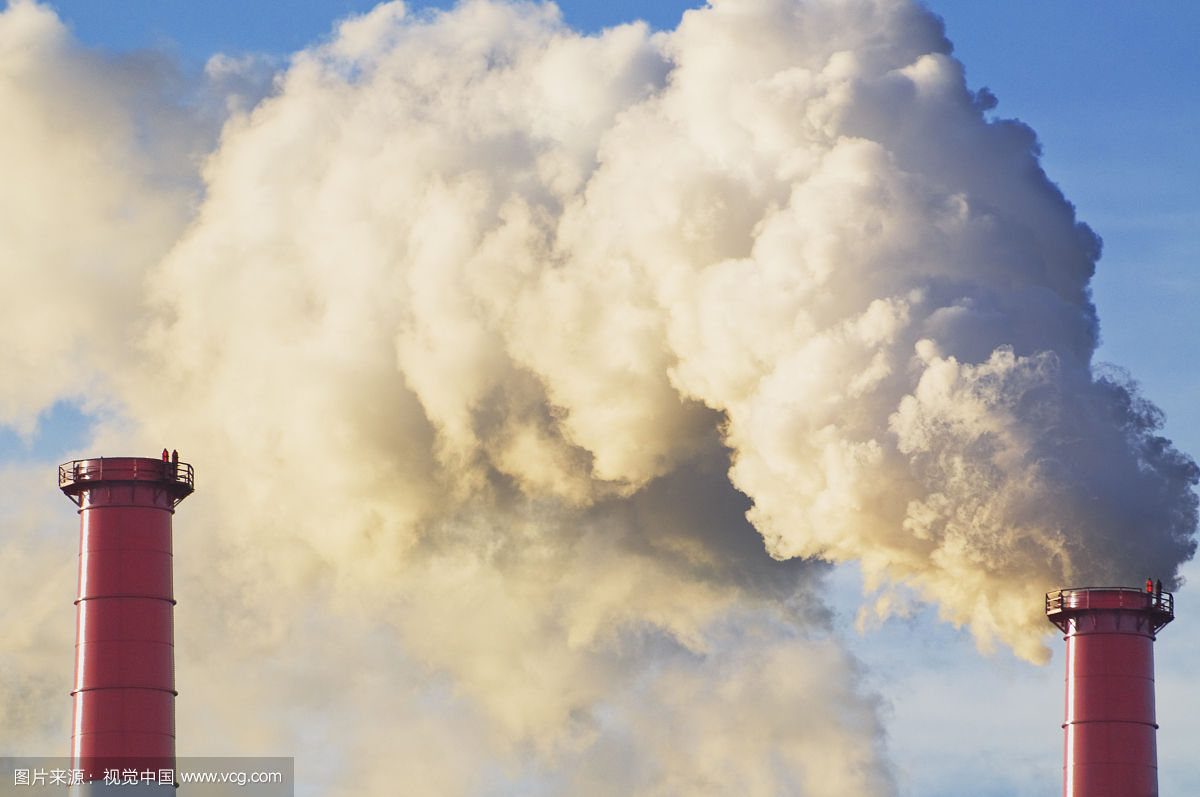dust: (718, 234, 1188, 631)
